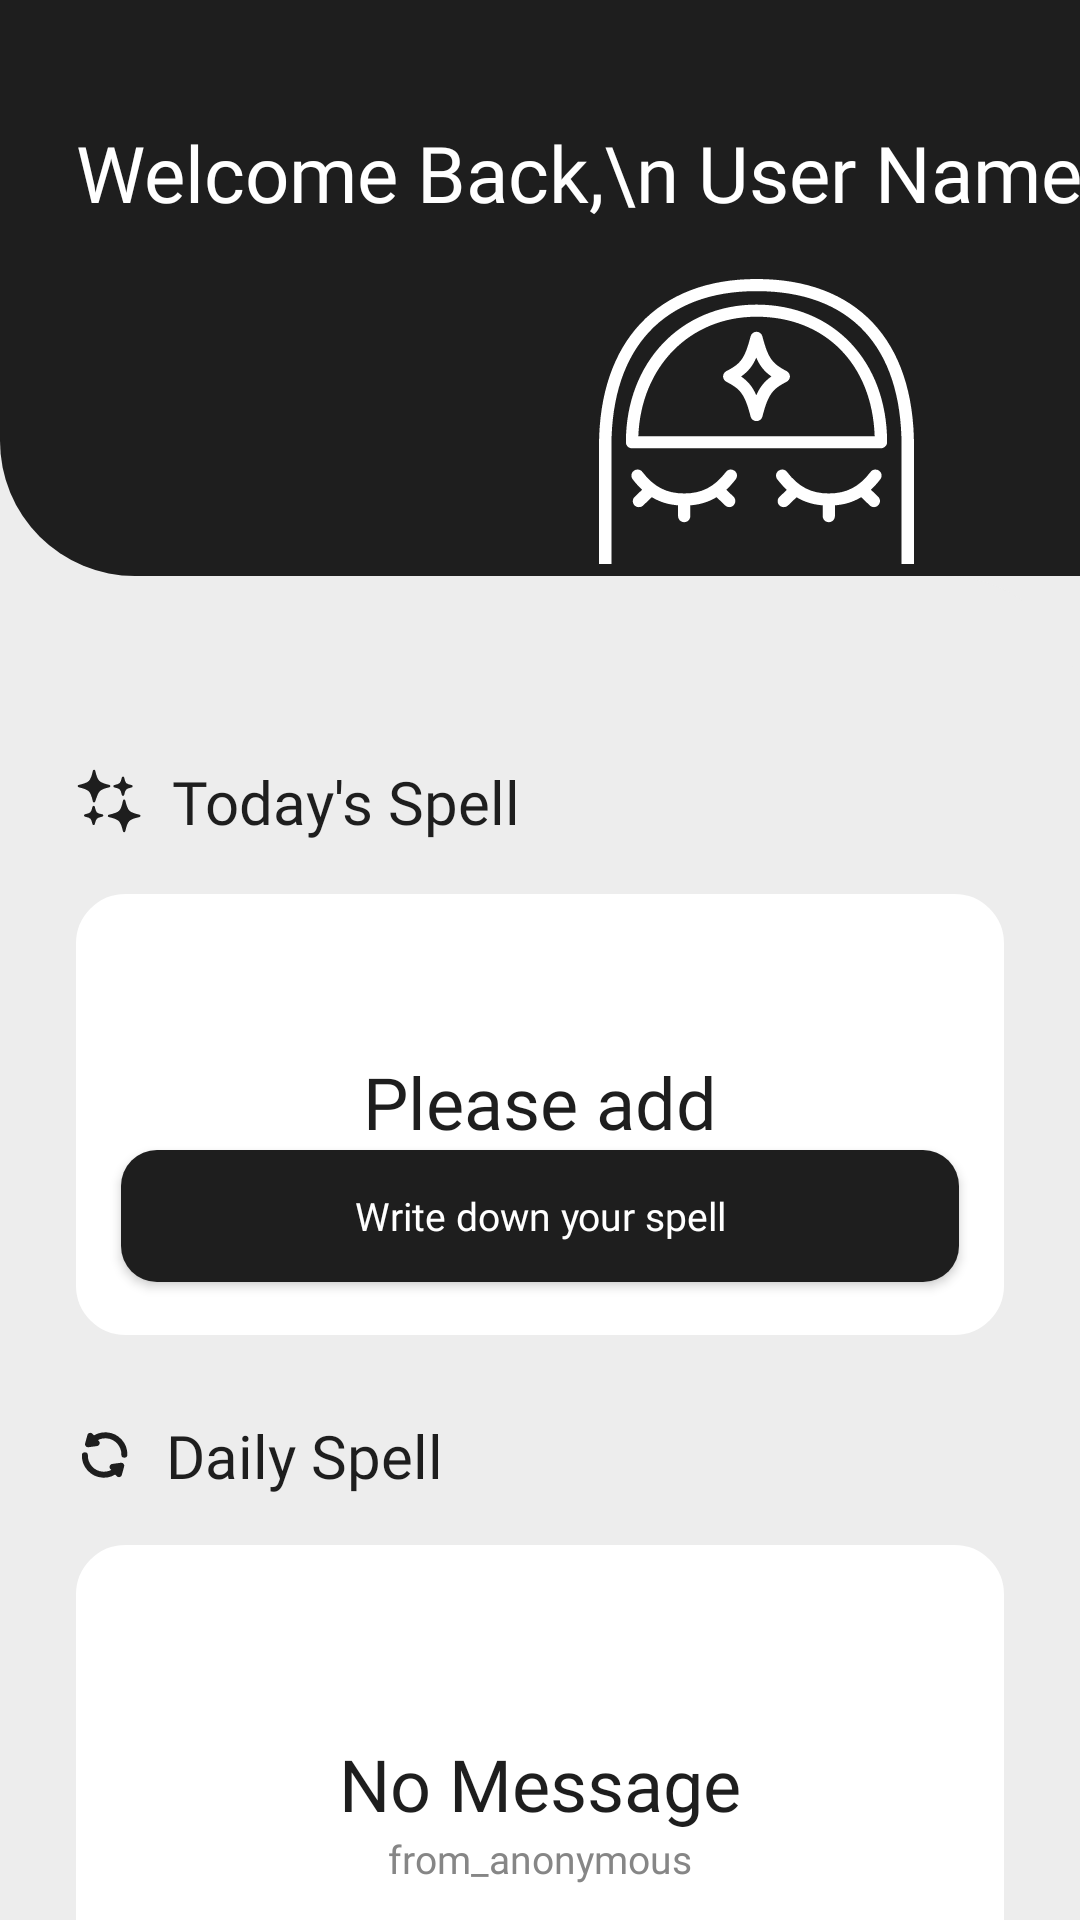

Screen size 1080*1920. Icon name, then its center in pixels as [x,y]:
home charec: [756,421]
home daily: [105,1455]
